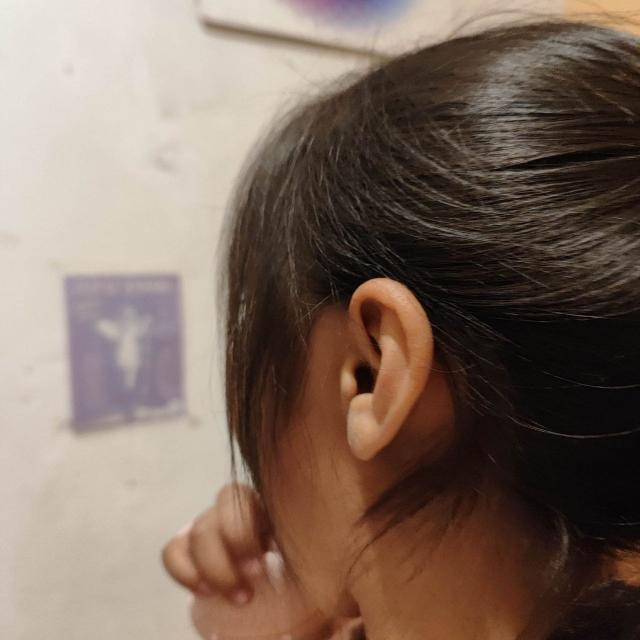ear: (340, 279, 434, 460)
